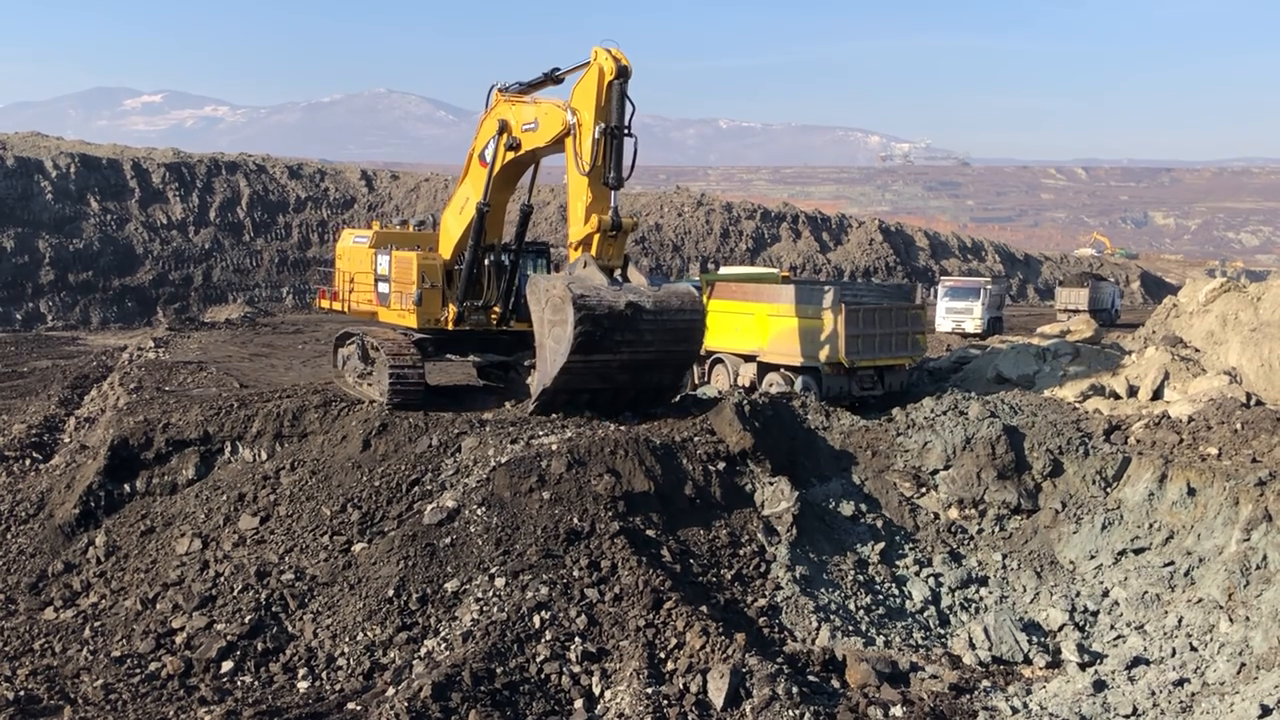empty: (520, 269, 706, 422)
